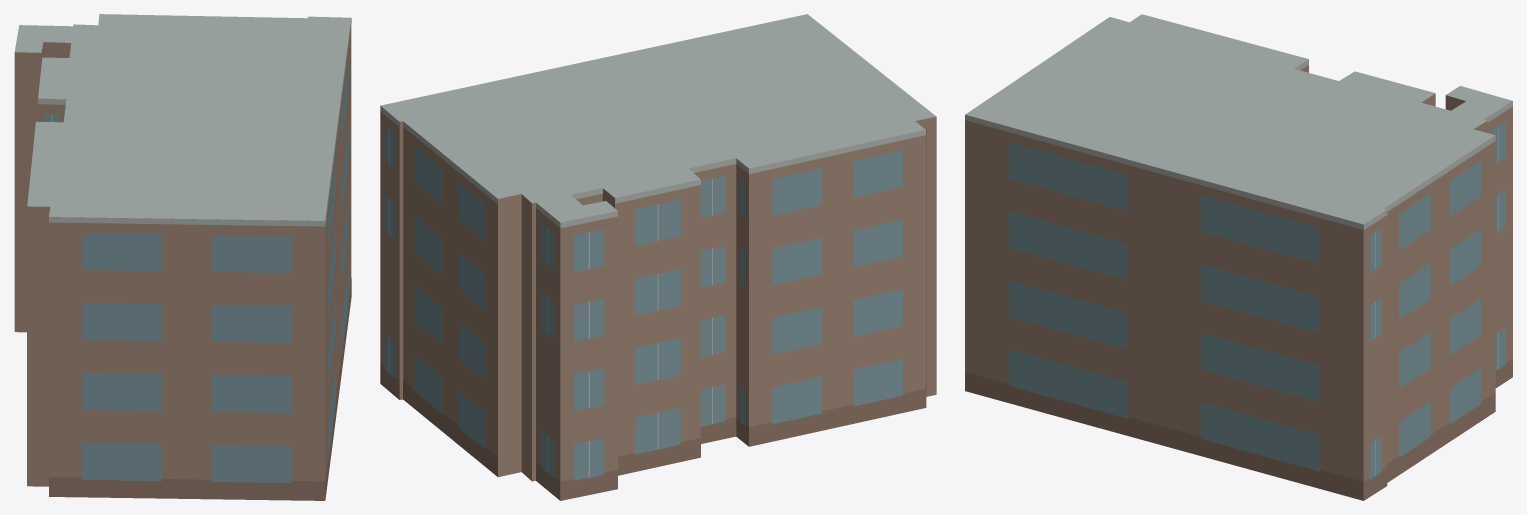
File: survey-upis-32669471.glb
The picture shows the model from 3 angles, left to right: view 1: azimuth 30°, elevation 25°; view 2: azimuth 150°, elevation 25°; view 3: azimuth 270°, elevation 25°; orthographic projection.
Parts seen in each view (by area): view 1: survey-upis-32669471.tmp; view 2: survey-upis-32669471.tmp; view 3: survey-upis-32669471.tmp.
Boxes of the visible parts, x1=… form: survey-upis-32669471.tmp: x1=14, y1=14, x2=351, y2=500; survey-upis-32669471.tmp: x1=380, y1=14, x2=936, y2=500; survey-upis-32669471.tmp: x1=965, y1=14, x2=1512, y2=500.
Size of the model in its own units: 20.01 by 12.25 by 22.01.
